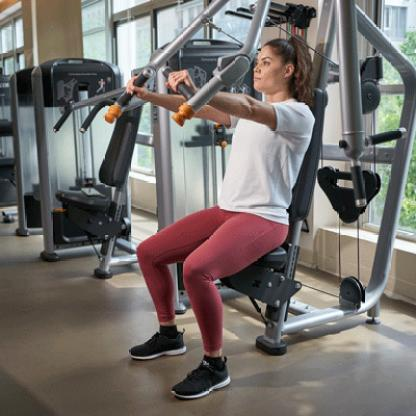Chest Press machine: (94, 2, 416, 411)
